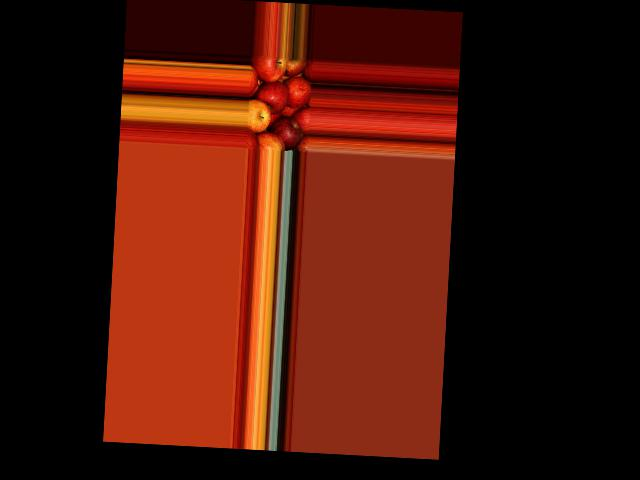apple: (281, 75, 310, 111)
